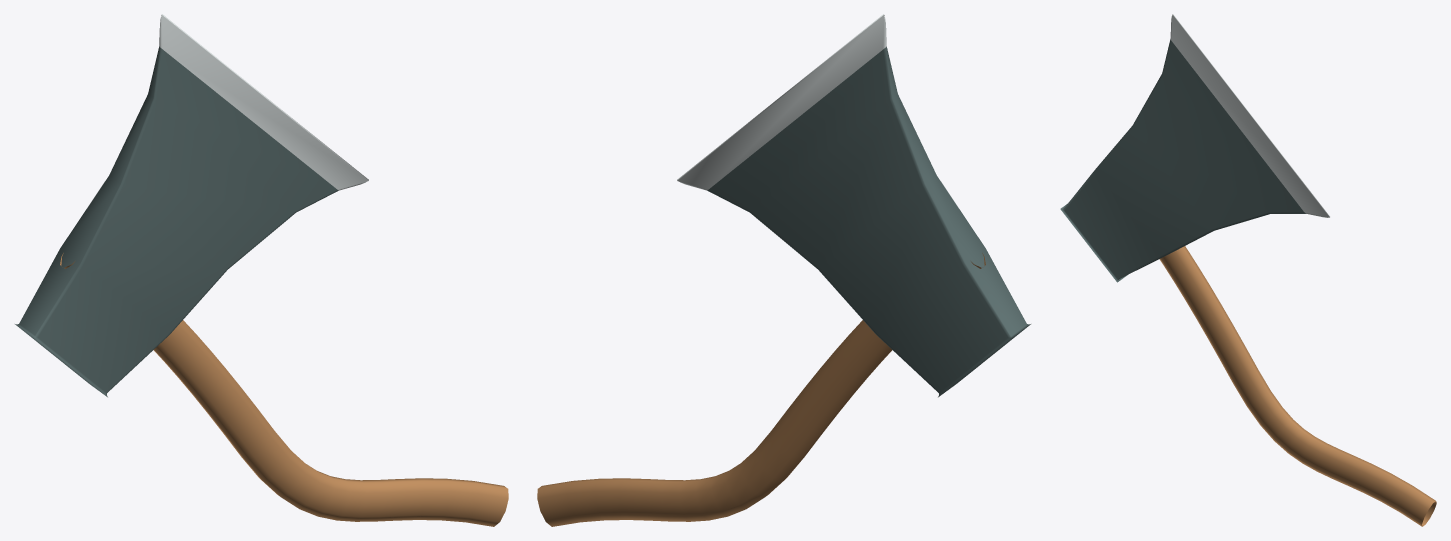
Rendered from axe.glb.
The picture shows the model from 3 angles, left to right: view 1: azimuth 30°, elevation 25°; view 2: azimuth 150°, elevation 25°; view 3: azimuth 330°, elevation 25°; orthographic projection. The views are drawn at different scales.
Visible parts, largest first — view 1: AxeHead, Handle; view 2: AxeHead, Handle; view 3: AxeHead, Handle.
Boxes of the visible parts, box(x1,y1,x2,y2) form: AxeHead: box(15, 14, 368, 397); Handle: box(60, 253, 508, 526); AxeHead: box(677, 14, 1030, 397); Handle: box(537, 253, 985, 526); AxeHead: box(1060, 14, 1329, 282); Handle: box(1159, 246, 1436, 526).
Size of the model in its own units: 3.82 by 4.48 by 0.3.
